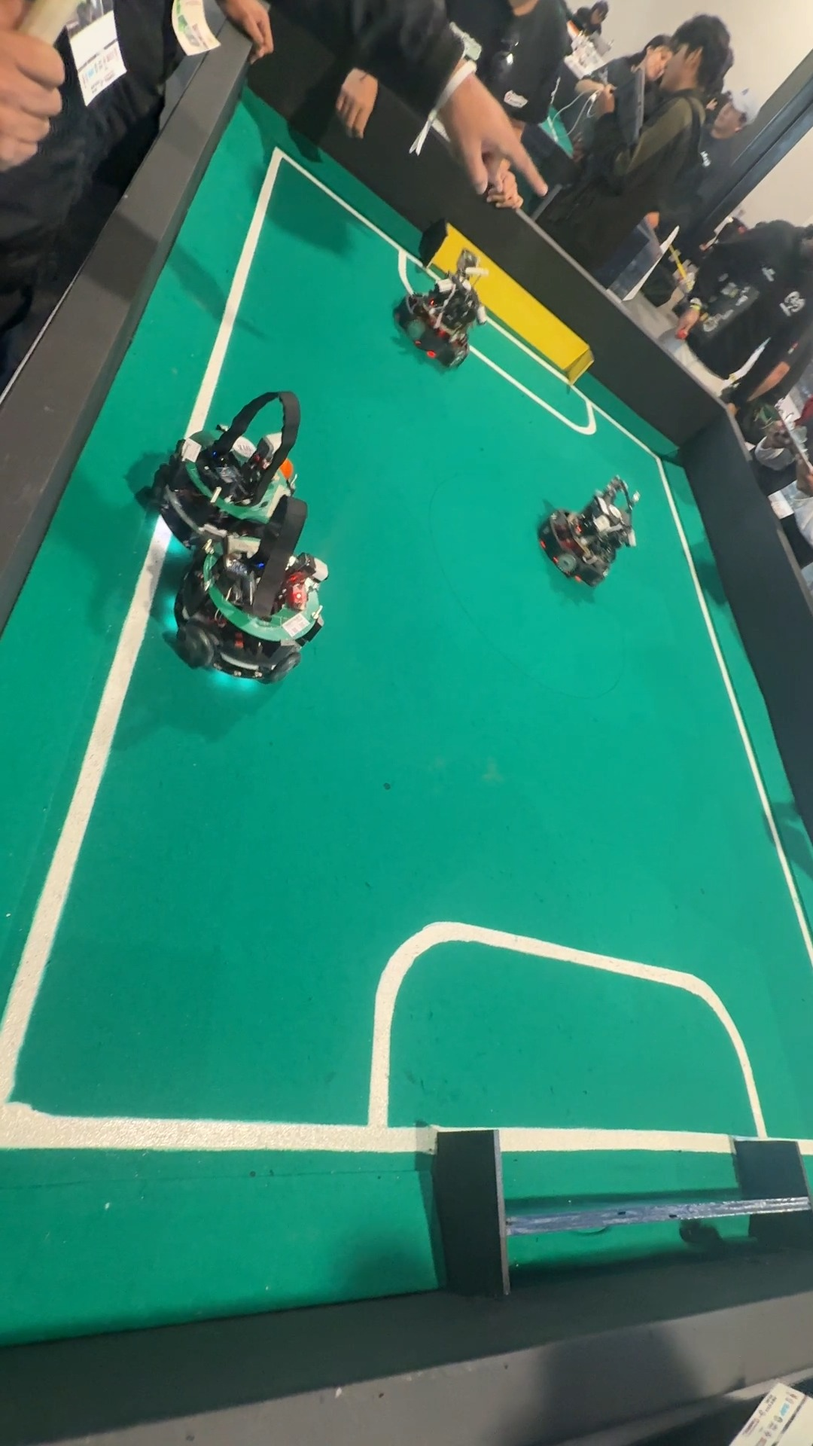Robot: (196, 490, 337, 716), (163, 361, 313, 529), (384, 230, 489, 386), (533, 462, 642, 598)
